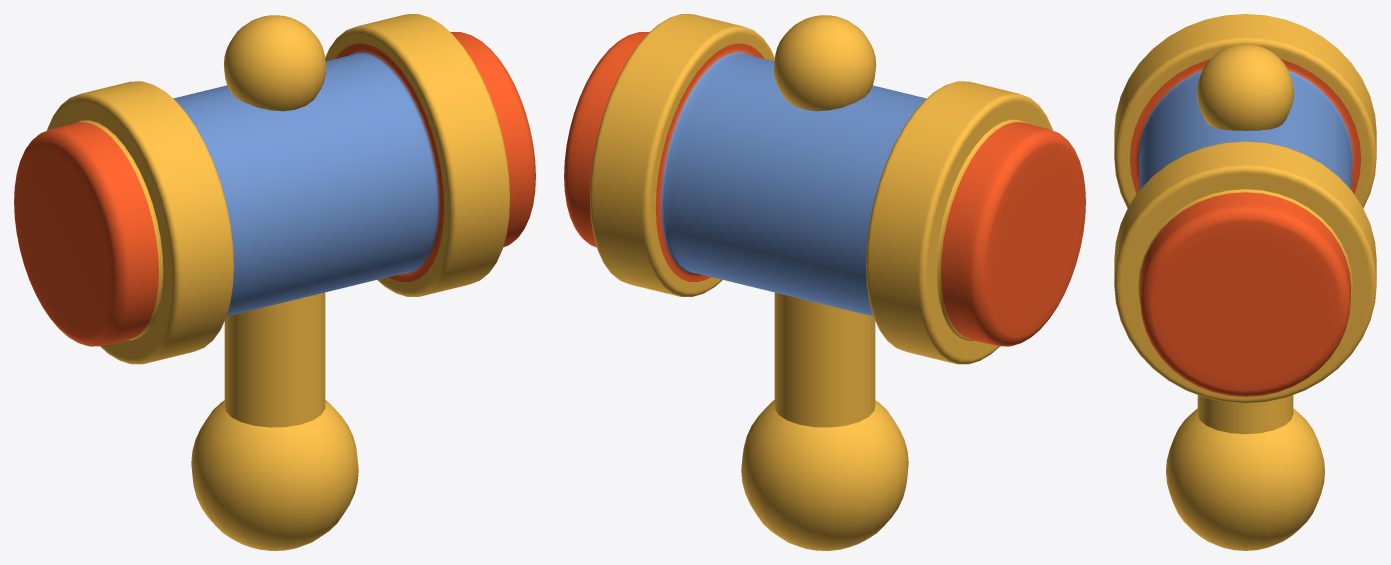
The model's file is Hammer_Render_01a.fbx.
The picture shows the model from 3 angles, left to right: view 1: azimuth 30°, elevation 25°; view 2: azimuth 150°, elevation 25°; view 3: azimuth 270°, elevation 25°; orthographic projection. The views are drawn at different scales.
Parts seen in each view (by area): view 1: pCylinder13; view 2: pCylinder13; view 3: pCylinder13.
Boxes of the visible parts, x1,y1,x2,y2 form: pCylinder13: (14, 14, 535, 550); pCylinder13: (564, 14, 1085, 550); pCylinder13: (1114, 14, 1376, 550).
Bounding box in the file's own units: 305 × 361 × 174.
